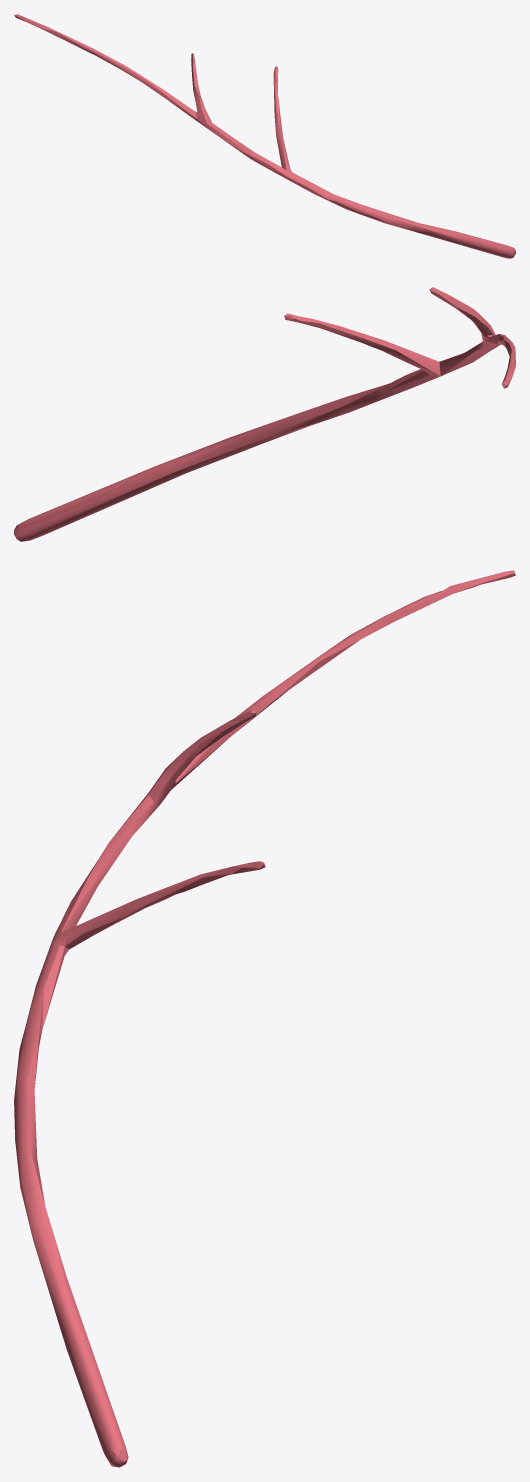
File: fma50341_fj4712.glb
3 renders of one model, top to bottom at view 1: azimuth 30°, elevation 25°; view 2: azimuth 150°, elevation 25°; view 3: azimuth 270°, elevation 25°, orthographic. The views are drawn at different scales.
Visible parts, largest first — view 1: FMA50341_FJ4712; view 2: FMA50341_FJ4712; view 3: FMA50341_FJ4712.
Part boxes in pixels (bbox=[...]): FMA50341_FJ4712: bbox=[14, 14, 515, 258]; FMA50341_FJ4712: bbox=[14, 287, 515, 541]; FMA50341_FJ4712: bbox=[14, 570, 515, 1467].
Bounding box in the file's own units: 0.0213 × 0.0136 × 0.0118.
